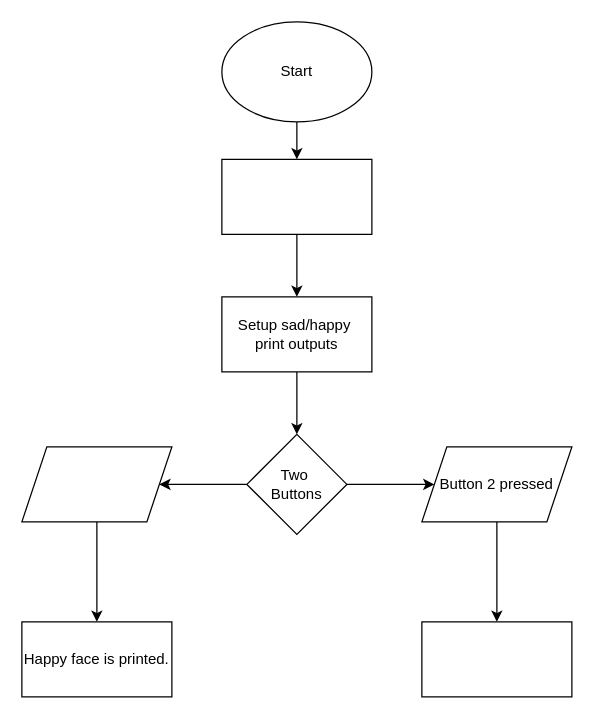
This 594x719 diagram has some shape labels left out. Here are the shapes that lost their labels. From the top down, the centre of each, then its label:
the point at 296,196: Define pin Define low/high interrupts.
the point at 96,484: Button 1 pressed
the point at 496,659: Sad face is printed
